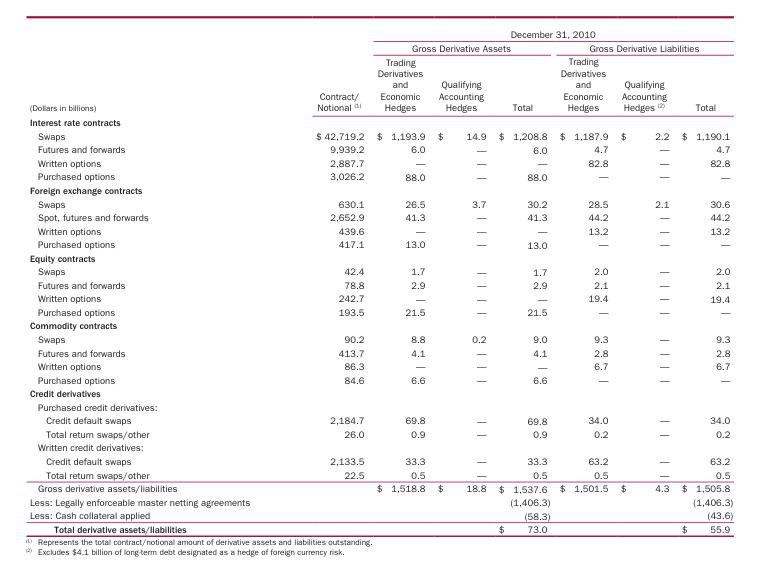table: (28, 28, 732, 534)
table column: (28, 28, 282, 534), (282, 28, 369, 534), (491, 28, 554, 534), (369, 28, 430, 534), (430, 28, 491, 534), (613, 28, 674, 534), (554, 28, 613, 534), (674, 28, 732, 534)
table column header: (28, 28, 732, 114)
table projected row header: (28, 114, 732, 128), (28, 250, 732, 264), (28, 318, 732, 332), (28, 399, 732, 413), (28, 440, 732, 454), (28, 183, 732, 196), (28, 386, 732, 399)
table row: (28, 54, 732, 114), (28, 40, 732, 54), (28, 114, 732, 128), (28, 128, 732, 142), (28, 142, 732, 156), (28, 169, 732, 183), (28, 196, 732, 210), (28, 223, 732, 237), (28, 250, 732, 264), (28, 264, 732, 278), (28, 291, 732, 305), (28, 318, 732, 332), (28, 345, 732, 359), (28, 372, 732, 386), (28, 399, 732, 413), (28, 413, 732, 427), (28, 440, 732, 454), (28, 467, 732, 481), (28, 494, 732, 508), (28, 156, 732, 169), (28, 183, 732, 196), (28, 210, 732, 223), (28, 237, 732, 250), (28, 278, 732, 291), (28, 305, 732, 318), (28, 332, 732, 345), (28, 359, 732, 372), (28, 386, 732, 399), (28, 427, 732, 440), (28, 454, 732, 467), (28, 481, 732, 494), (28, 508, 732, 521), (28, 521, 732, 534), (28, 28, 732, 40)
table spanning cell: (28, 28, 282, 114), (282, 28, 369, 114), (369, 28, 732, 40), (369, 40, 554, 54), (554, 40, 732, 54)
